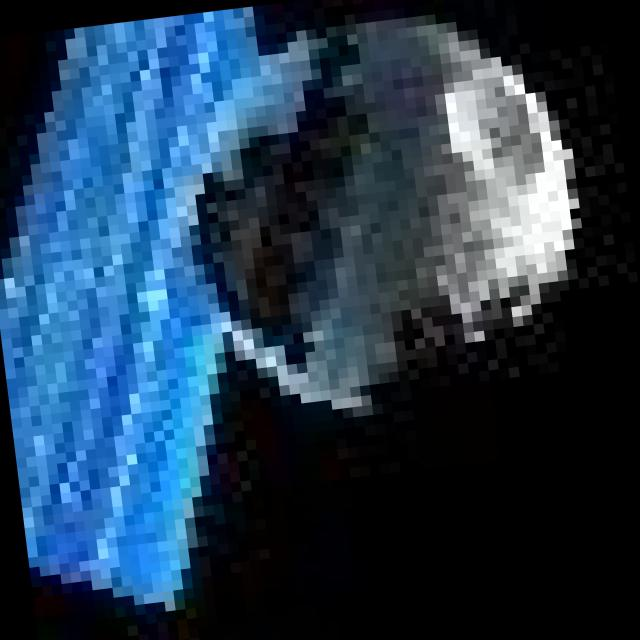Death Star: (160, 7, 600, 444)
